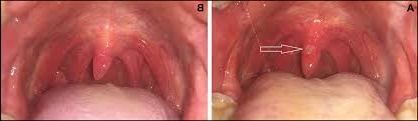Ulcer: (301, 41, 317, 60)
